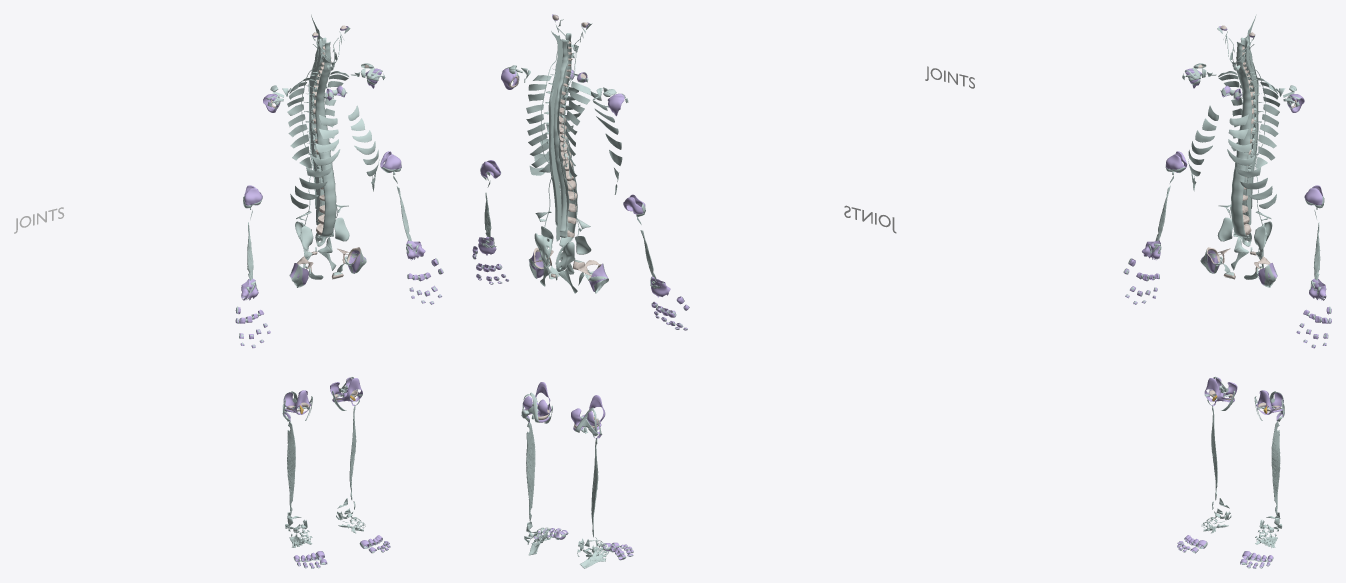
File: articular.glb
3 renders of one model, left to right at view 1: azimuth 30°, elevation 25°; view 2: azimuth 150°, elevation 25°; view 3: azimuth 330°, elevation 25°, orthographic. The views are drawn at different scales.
Parts seen in each view (by area): view 1: Anterior longitudinal ligament.001, External intercostal membrane.r.001, Internal intercostal membrane.r.001, External intercostal membrane.l.001, Interosseous membrane of leg.r.001; view 2: Internal intercostal membrane.l.001, Ligamenta flava.001, Interspinous ligaments.001, Internal intercostal membrane.r.001, Anterior longitudinal ligament.001, Interosseous membrane of leg.l.001, External intercostal membrane.r.001, Posterior longitudinal ligament.001; view 3: Anterior longitudinal ligament.001, External intercostal membrane.l.001, Internal intercostal membrane.l.001, External intercostal membrane.r.001, Interosseous membrane of leg.l.001, Interspinous ligaments.001.
Part boxes in pixels (bbox=[...]): Anterior longitudinal ligament.001: bbox=[315, 41, 336, 238]; External intercostal membrane.r.001: bbox=[290, 115, 340, 208]; Internal intercostal membrane.r.001: bbox=[287, 77, 311, 168]; External intercostal membrane.l.001: bbox=[348, 105, 379, 191]; Interosseous membrane of leg.r.001: bbox=[287, 421, 295, 514]; Internal intercostal membrane.l.001: bbox=[526, 75, 551, 172]; Ligamenta flava.001: bbox=[553, 39, 567, 231]; Interspinous ligaments.001: bbox=[550, 39, 562, 241]; Internal intercostal membrane.r.001: bbox=[565, 81, 591, 178]; Anterior longitudinal ligament.001: bbox=[559, 33, 577, 246]; Interosseous membrane of leg.l.001: bbox=[526, 422, 535, 521]; External intercostal membrane.r.001: bbox=[591, 91, 622, 194]; Posterior longitudinal ligament.001: bbox=[557, 39, 569, 237]; Anterior longitudinal ligament.001: bbox=[1231, 42, 1251, 237]; External intercostal membrane.l.001: bbox=[1227, 114, 1276, 208]; Internal intercostal membrane.l.001: bbox=[1255, 77, 1280, 168]; External intercostal membrane.r.001: bbox=[1188, 105, 1218, 191]; Interosseous membrane of leg.l.001: bbox=[1271, 421, 1280, 514]; Interspinous ligaments.001: bbox=[1245, 37, 1257, 224].
Bounding box in the file's own units: 1.33 × 1.58 × 0.2308.
